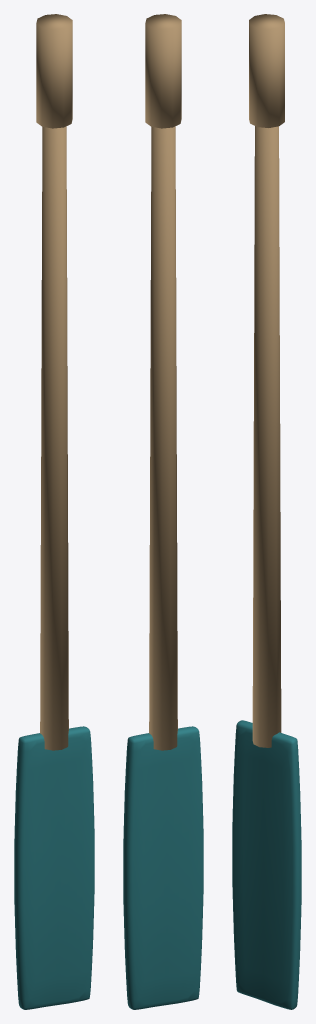
The model's file is oar.glb.
The picture shows the model from 3 angles, left to right: view 1: azimuth 30°, elevation 25°; view 2: azimuth 210°, elevation 25°; view 3: azimuth 330°, elevation 25°; orthographic projection.
Parts seen in each view (by area): view 1: Oar_Blade, Oar_Shaft; view 2: Oar_Blade, Oar_Shaft; view 3: Oar_Shaft, Oar_Blade.
Boxes of the visible parts, bbox=[...] form: Oar_Blade: bbox=[14, 726, 94, 1009]; Oar_Shaft: bbox=[36, 14, 72, 750]; Oar_Blade: bbox=[123, 726, 203, 1009]; Oar_Shaft: bbox=[145, 14, 181, 750]; Oar_Shaft: bbox=[249, 14, 284, 747]; Oar_Blade: bbox=[232, 720, 301, 1009].
Size of the model in its own units: 0.1521 by 1.99 by 0.068.
